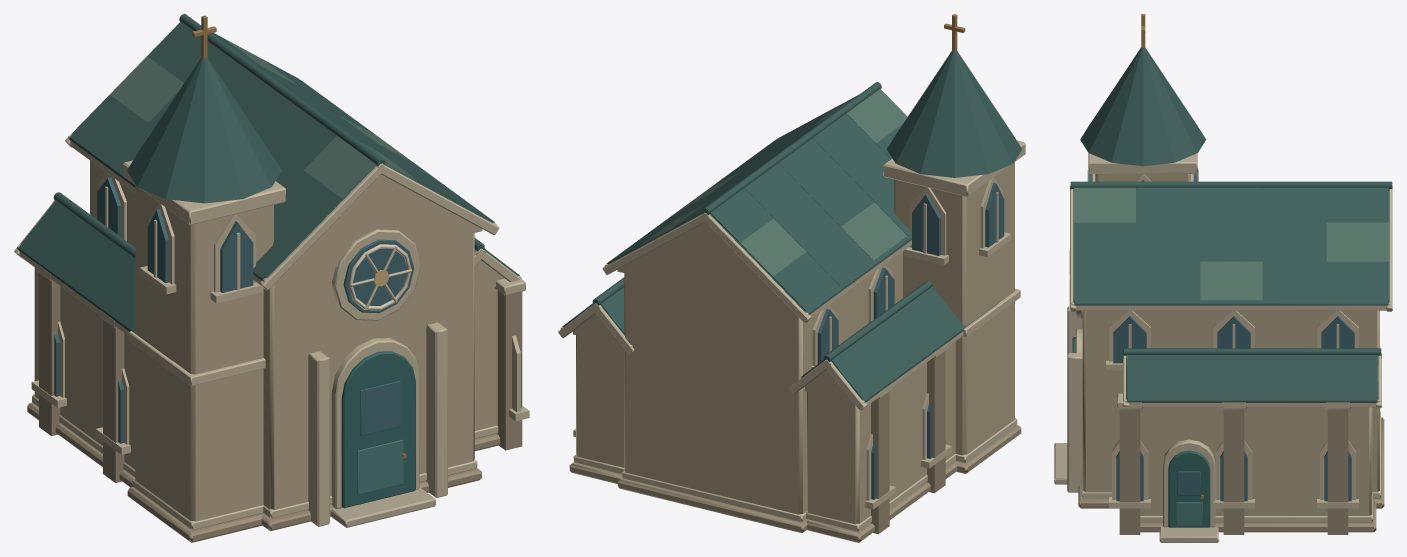
The model's file is cathedral_level_2.glb.
3 renders of one model, left to right at view 1: azimuth 30°, elevation 25°; view 2: azimuth 150°, elevation 25°; view 3: azimuth 270°, elevation 25°, orthographic. The views are drawn at different scales.
Parts seen in each view (by area): view 1: cathedral_level_2_runtime; view 2: cathedral_level_2_runtime; view 3: cathedral_level_2_runtime.
Boxes of the visible parts, <box> form: cathedral_level_2_runtime: <box>14,14,529,542</box>; cathedral_level_2_runtime: <box>558,14,1025,542</box>; cathedral_level_2_runtime: <box>1054,14,1392,542</box>.
Bounding box in the file's own units: 6.98 × 8.39 × 6.43.
